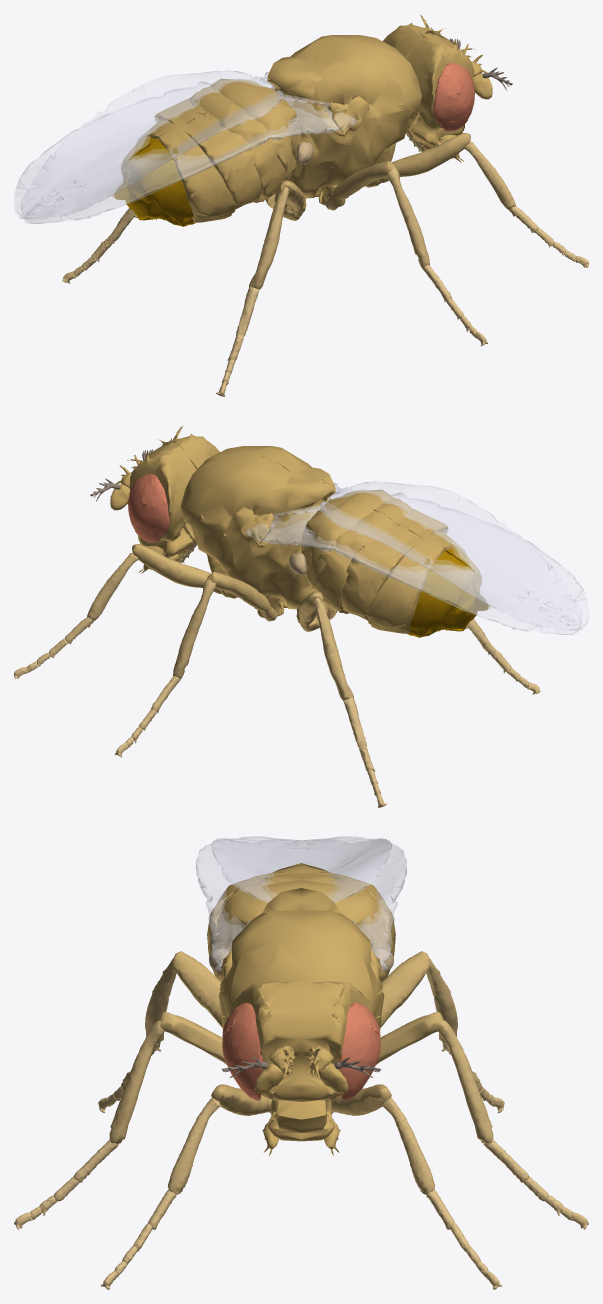
The model's file is fly.glb.
The picture shows the model from 3 angles, top to bottom: view 1: azimuth 30°, elevation 25°; view 2: azimuth 150°, elevation 25°; view 3: azimuth 270°, elevation 25°; orthographic projection. The views are drawn at different scales.
Visible parts, largest first — view 1: r_wing, c_thorax, l_wing, c_abdomen6, c_abdomen4, c_abdomen5, c_head, c_abdomen3, c_abdomen12, r_eye, rf_trochanterfemur, rh_tibia (+6 smaller); view 2: l_wing, c_thorax, r_wing, c_abdomen6, c_abdomen4, c_abdomen5, c_head, c_abdomen3, c_abdomen12, l_eye, lf_trochanterfemur, lh_tibia (+6 smaller); view 3: c_thorax, l_wing, r_wing, c_head, c_abdomen12, l_eye, r_eye, c_rostrum, rm_tibia, lm_tibia, lh_trochanterfemur, rh_trochanterfemur (+11 smaller).
Boxes of the visible parts, x1=… form: r_wing: x1=20, y1=70, x2=357, y2=223; c_thorax: x1=267, y1=35, x2=422, y2=198; l_wing: x1=14, y1=72, x2=283, y2=219; c_abdomen6: x1=112, y1=132, x2=196, y2=226; c_abdomen4: x1=155, y1=98, x2=261, y2=209; c_abdomen5: x1=136, y1=120, x2=236, y2=222; c_head: x1=383, y1=14, x2=475, y2=130; c_abdomen3: x1=189, y1=86, x2=289, y2=203; c_abdomen12: x1=210, y1=78, x2=301, y2=177; r_eye: x1=433, y1=63, x2=475, y2=131; rf_trochanterfemur: x1=381, y1=133, x2=470, y2=182; rh_tibia: x1=249, y1=187, x2=289, y2=289; l_wing: x1=245, y1=481, x2=582, y2=634; c_thorax: x1=180, y1=446, x2=335, y2=609; r_wing: x1=319, y1=483, x2=588, y2=630; c_abdomen6: x1=406, y1=543, x2=490, y2=637; c_abdomen4: x1=341, y1=509, x2=447, y2=620; c_abdomen5: x1=366, y1=531, x2=466, y2=633; c_head: x1=127, y1=425, x2=219, y2=541; c_abdomen3: x1=313, y1=497, x2=413, y2=614; c_abdomen12: x1=301, y1=489, x2=392, y2=588; l_eye: x1=127, y1=474, x2=169, y2=542; lf_trochanterfemur: x1=132, y1=544, x2=221, y2=593; lh_tibia: x1=313, y1=598, x2=353, y2=700; c_thorax: x1=216, y1=888, x2=386, y2=1029; l_wing: x1=210, y1=836, x2=406, y2=971; r_wing: x1=196, y1=836, x2=392, y2=971; c_head: x1=230, y1=981, x2=372, y2=1101; c_abdomen12: x1=210, y1=879, x2=392, y2=952; l_eye: x1=339, y1=1003, x2=380, y2=1100; r_eye: x1=222, y1=1003, x2=263, y2=1100; c_rostrum: x1=262, y1=1099, x2=340, y2=1156; rm_tibia: x1=109, y1=1020, x2=164, y2=1144; lm_tibia: x1=438, y1=1020, x2=493, y2=1144; lh_trochanterfemur: x1=380, y1=951, x2=429, y2=1027; rh_trochanterfemur: x1=173, y1=951, x2=222, y2=1027.
Bounding box in the file's own units: 3.8 × 1.84 × 3.01.
